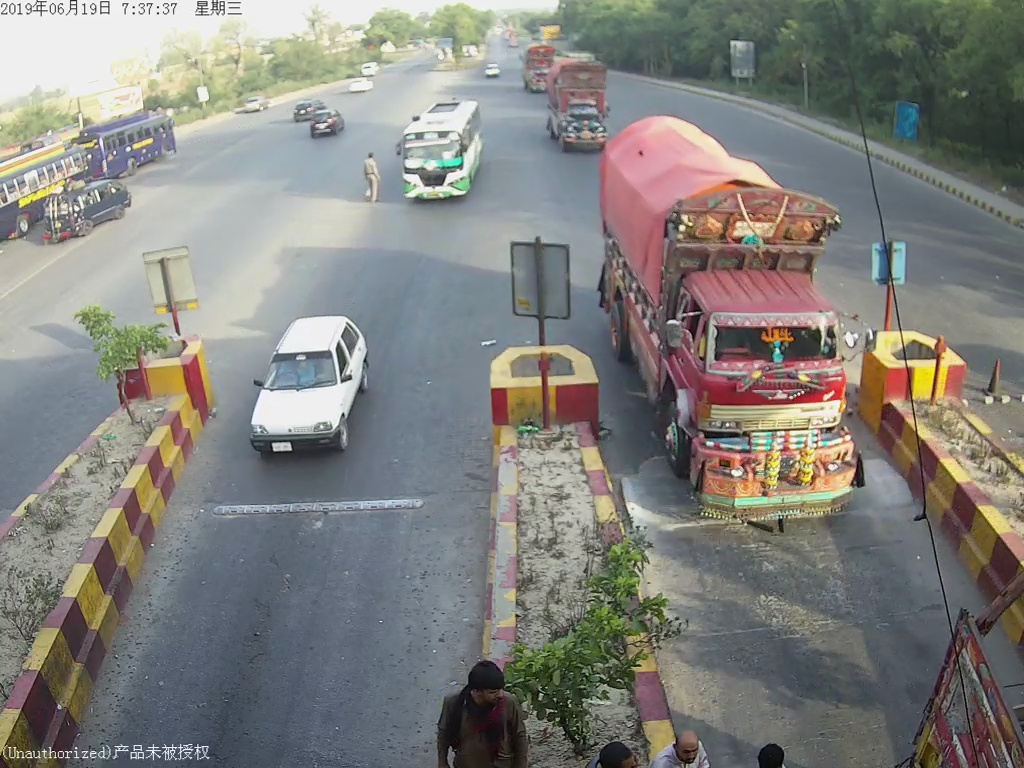Cat-1: (245, 312, 374, 455)
Cat-3: (394, 91, 485, 202)
Cat-4: (604, 122, 881, 525), (546, 58, 616, 149), (518, 36, 559, 93)
